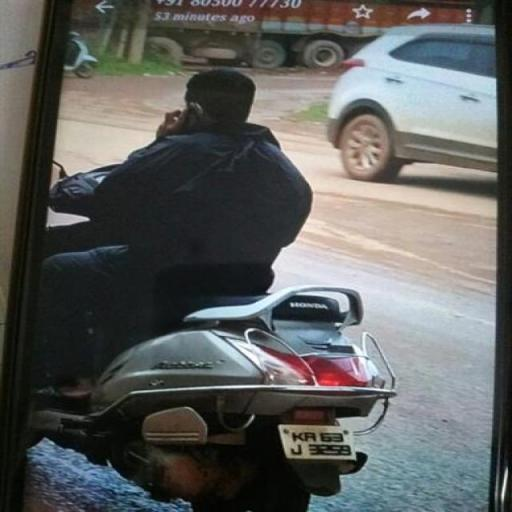numberplate: (282, 424, 356, 461)
using mobile: (162, 90, 214, 148)
